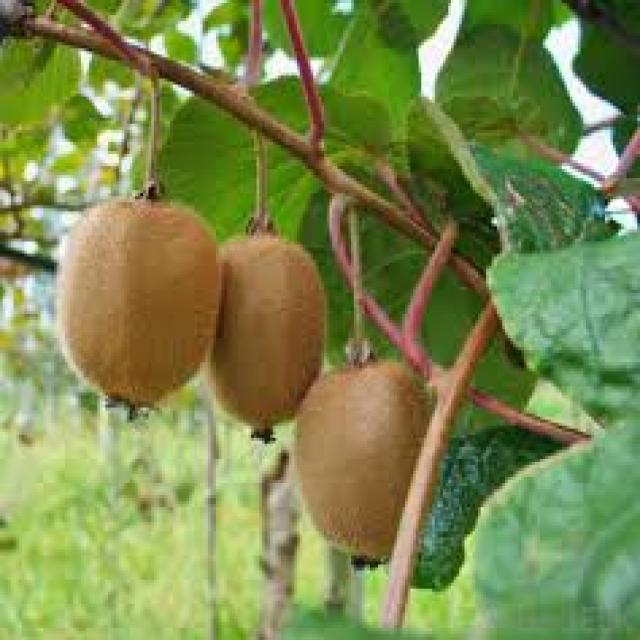organic waste: (52, 190, 214, 411), (297, 350, 429, 562), (208, 220, 324, 441)
